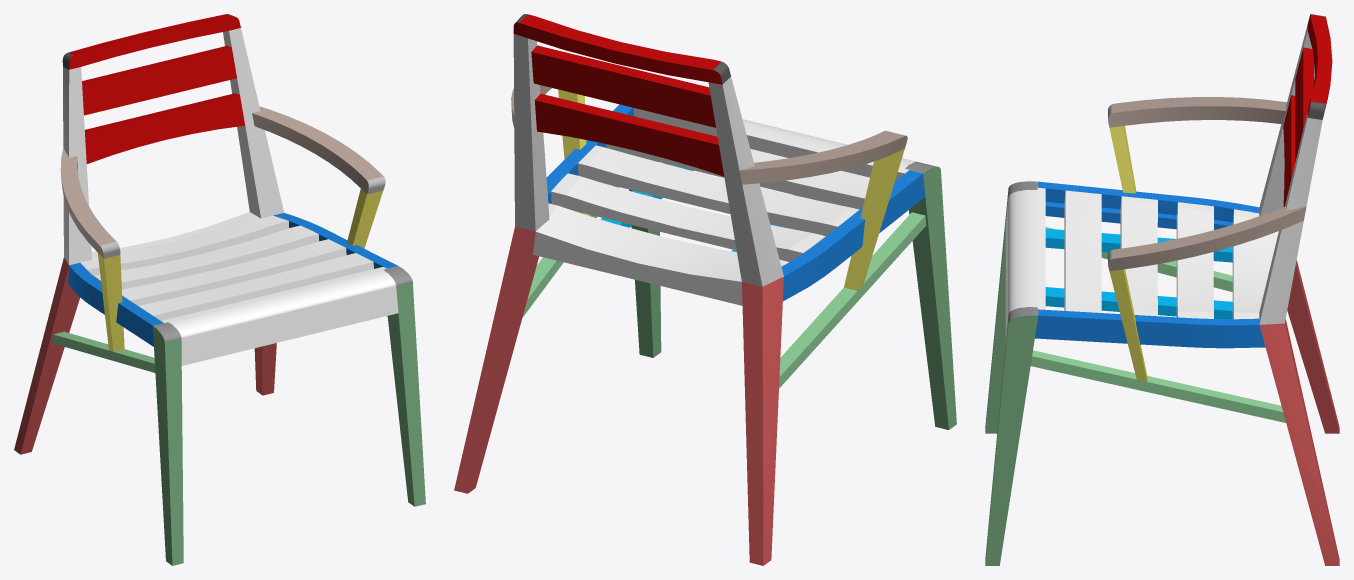
Rendered from ParaChair.glb.
The picture shows the model from 3 angles, left to right: view 1: azimuth 30°, elevation 25°; view 2: azimuth 150°, elevation 25°; view 3: azimuth 270°, elevation 25°; orthographic projection. The views are drawn at different scales.
Parts seen in each view (by area): view 1: DiningChair_C_concept16_Final v1; view 2: DiningChair_C_concept16_Final v1; view 3: DiningChair_C_concept16_Final v1.
Part boxes in pixels (left/top/right/bottom): DiningChair_C_concept16_Final v1: left=14, top=14, right=425, bottom=565; DiningChair_C_concept16_Final v1: left=454, top=14, right=956, bottom=565; DiningChair_C_concept16_Final v1: left=985, top=14, right=1339, bottom=565.
Size of the model in its own units: 64.04 by 84.52 by 61.9.
